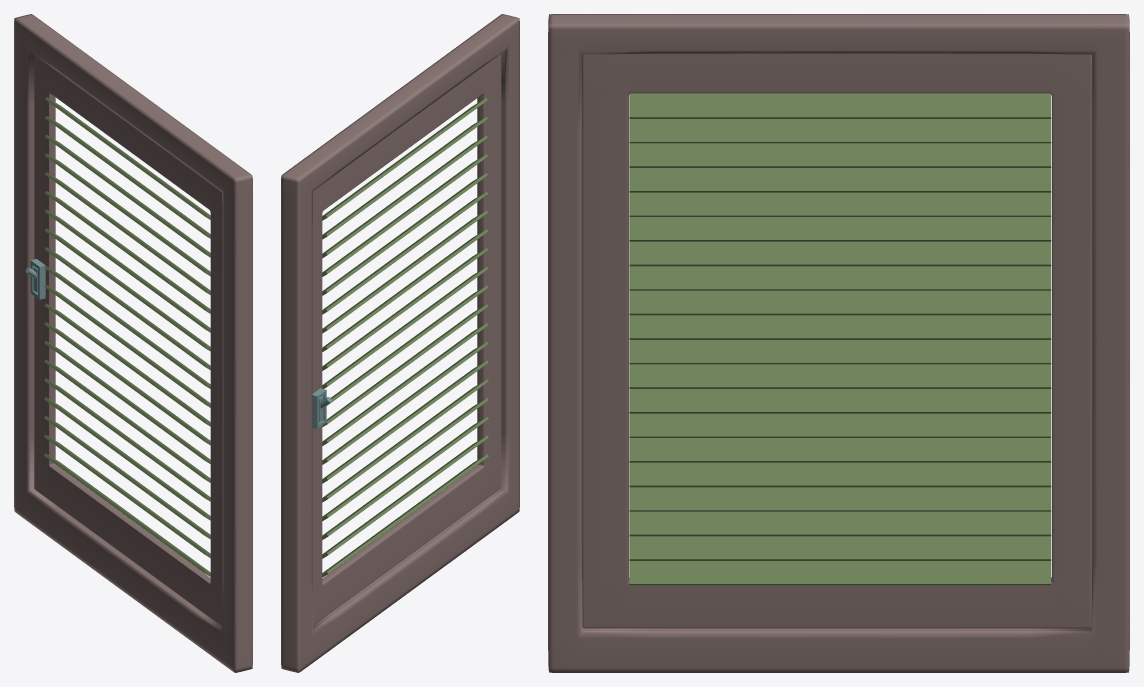
The model's file is Window_high.fbx.
3 views of the same model, side by side, from view 1: azimuth 30°, elevation 25°; view 2: azimuth 150°, elevation 25°; view 3: azimuth 270°, elevation 25° (orthographic). The views are drawn at different scales.
Parts seen in each view (by area): view 1: polySurface1, polySurface3, WindowPanel16, WindowPanel17, WindowPanel19, WindowPanel15, WindowPanel18, WindowPanel14, WindowPanel5, WindowPanel7, WindowPanel10, WindowPanel12 (+11 smaller); view 2: polySurface1, polySurface3, WindowPanel17, WindowPanel12, WindowPanel13, WindowPanel14, WindowPanel15, WindowPanel16, WindowPanel18, WindowPanel19, WindowPanel1, WindowPanel2 (+11 smaller); view 3: polySurface1, polySurface3, WindowPanel, WindowPanel6, WindowPanel8, WindowPanel15, WindowPanel17, WindowPanel2, WindowPanel3, WindowPanel5, WindowPanel7, WindowPanel9 (+10 smaller).
Part boxes in pixels (x1,y1,x2,y2): polySurface1: (14,14,252,672); polySurface3: (34,55,222,626); WindowPanel16: (44,397,210,520); WindowPanel17: (44,416,210,539); WindowPanel19: (44,453,210,576); WindowPanel15: (44,378,210,501); WindowPanel18: (44,434,210,557); WindowPanel14: (44,359,210,482); WindowPanel5: (45,191,210,313); WindowPanel7: (44,228,210,351); WindowPanel10: (44,285,210,407); WindowPanel12: (44,322,210,445); polySurface1: (281,14,519,672); polySurface3: (312,54,501,625); WindowPanel17: (322,416,488,539); WindowPanel12: (322,323,488,445); WindowPanel13: (322,342,488,464); WindowPanel14: (322,360,488,483); WindowPanel15: (322,379,488,502); WindowPanel16: (322,398,488,520); WindowPanel18: (322,435,488,558); WindowPanel19: (322,454,488,577); WindowPanel1: (322,116,487,239); WindowPanel2: (322,135,487,258); polySurface1: (548,14,1129,672); polySurface3: (582,53,1092,628); WindowPanel: (629,93,1051,118); WindowPanel6: (629,241,1051,266); WindowPanel8: (629,290,1051,315); WindowPanel15: (629,462,1051,487); WindowPanel17: (629,511,1051,536); WindowPanel2: (629,143,1051,167); WindowPanel3: (629,168,1051,192); WindowPanel5: (629,217,1051,241); WindowPanel7: (629,266,1051,290); WindowPanel9: (629,315,1051,339).
Size of the model in its own units: 7.21 by 120 by 97.5.
